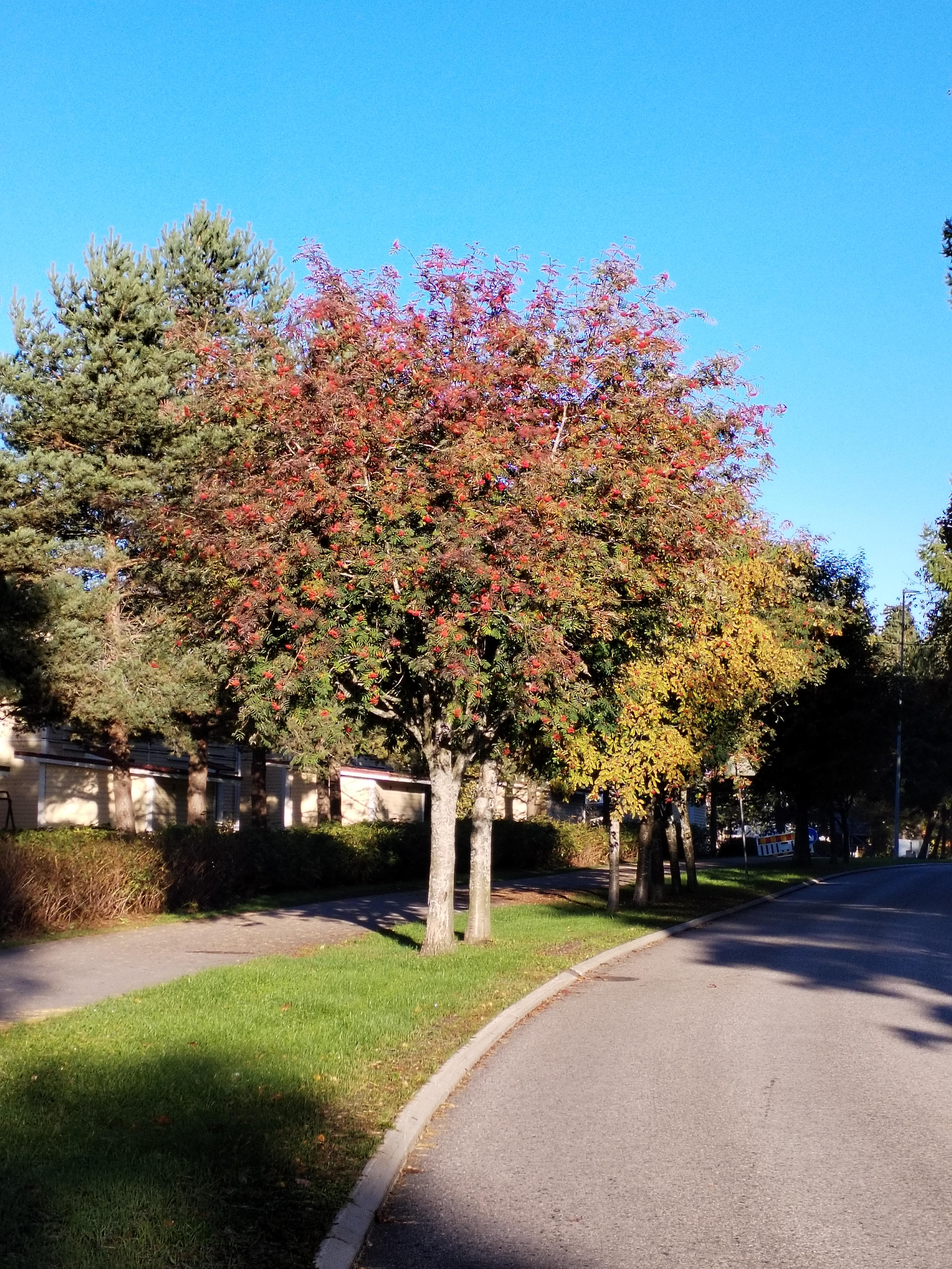Rowan: (211, 269, 675, 962), (555, 460, 811, 898)
